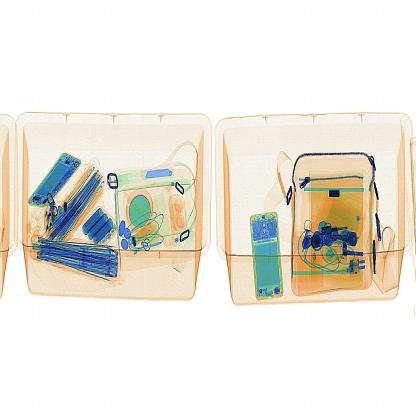pliers: (138, 158, 182, 188)
